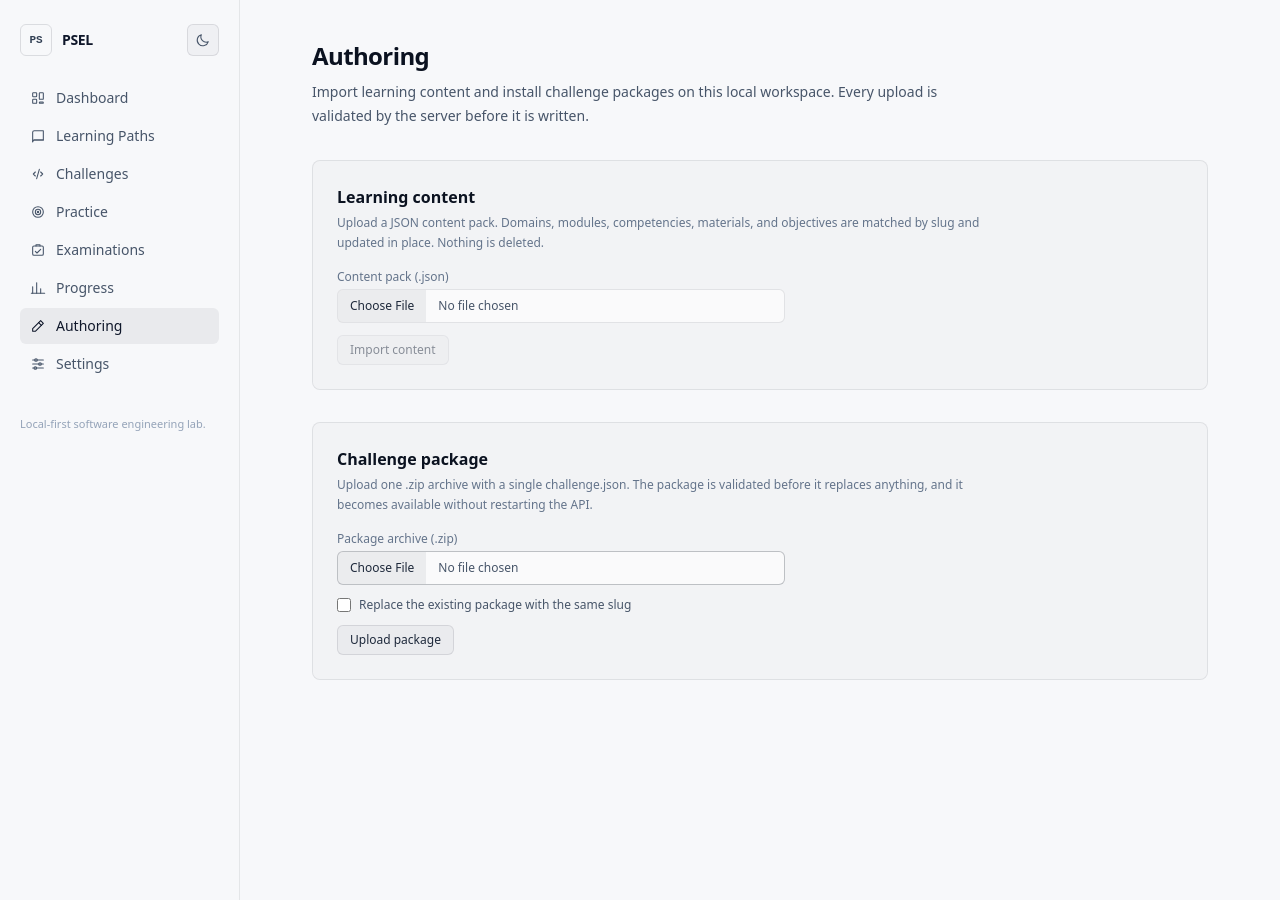
Test: AuthoringPage › shows the conflict message when replacement is not enabled
Earlier steps of the test are not shown.
What coordinates should you click on to do the following:
click the button "Upload package"
I would click on:
 (395, 640)
Its box is top-left (337, 625), bottom-right (454, 655).
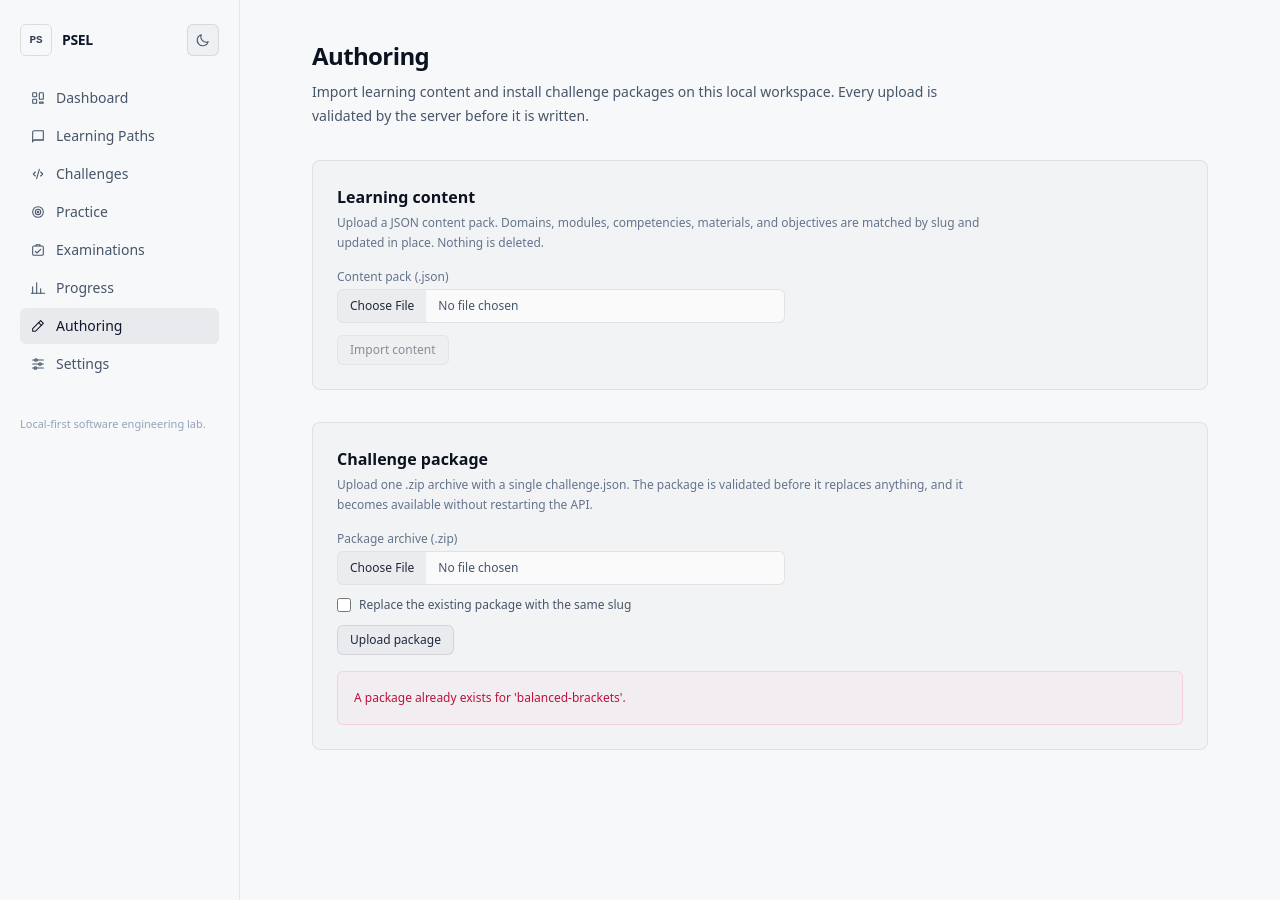
Now the message reads "A package already exists for 'balanced-brackets'.", box top-left (354, 689), bottom-right (626, 706)
